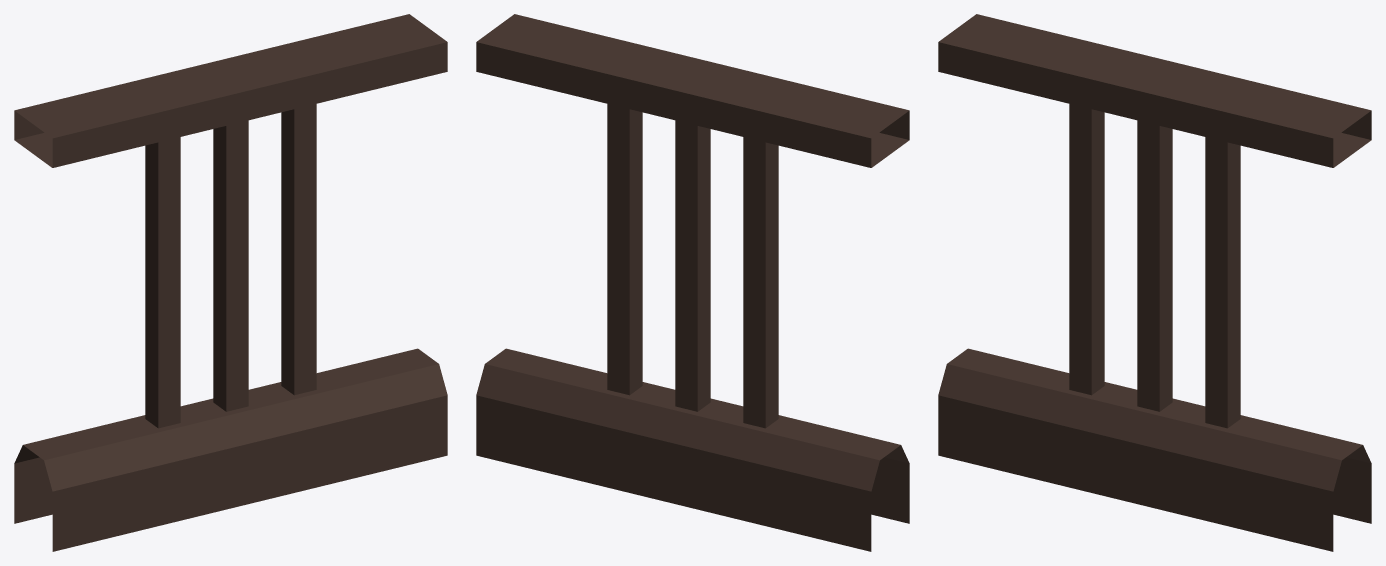
Rendered from LPHorror_Railing1m.fbx.
3 renders of one model, left to right at view 1: azimuth 30°, elevation 25°; view 2: azimuth 150°, elevation 25°; view 3: azimuth 330°, elevation 25°, orthographic.
Parts seen in each view (by area): view 1: Railing1m; view 2: Railing1m; view 3: Railing1m.
Part boxes in pixels (box(x1,y1,x2,y2)): Railing1m: box(14, 14, 447, 551); Railing1m: box(476, 14, 909, 551); Railing1m: box(938, 14, 1371, 551).
Size of the model in its own units: 100 by 100 by 16.8.
